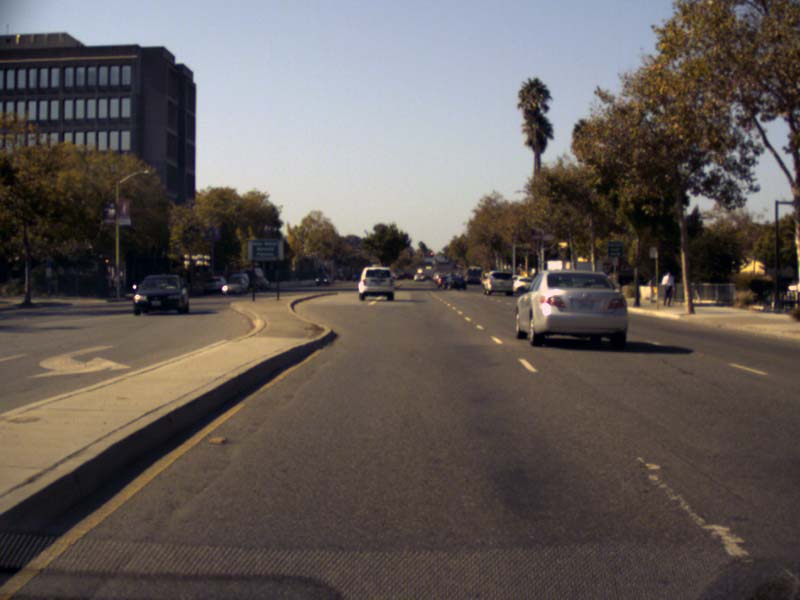Red: (430, 251, 432, 256)
